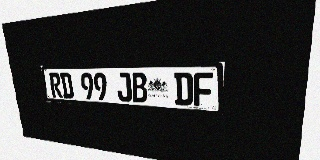9: (93, 73, 108, 101), (80, 73, 95, 100)
B: (131, 73, 148, 103)
D: (174, 72, 193, 106), (60, 73, 74, 99)
F: (193, 72, 213, 107)
J: (116, 73, 132, 102)
R: (49, 73, 63, 98)
